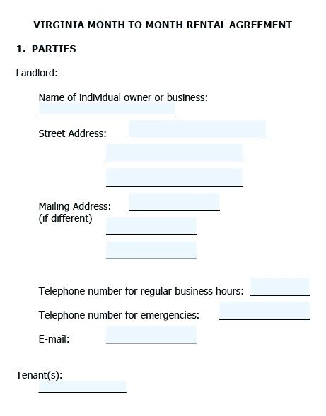textline: (126, 118, 267, 142), (102, 167, 244, 189), (105, 145, 245, 163), (126, 191, 220, 215), (105, 323, 199, 347), (103, 238, 198, 261), (35, 101, 178, 116), (216, 299, 311, 321), (105, 216, 200, 237), (37, 379, 127, 395), (247, 275, 311, 297)
